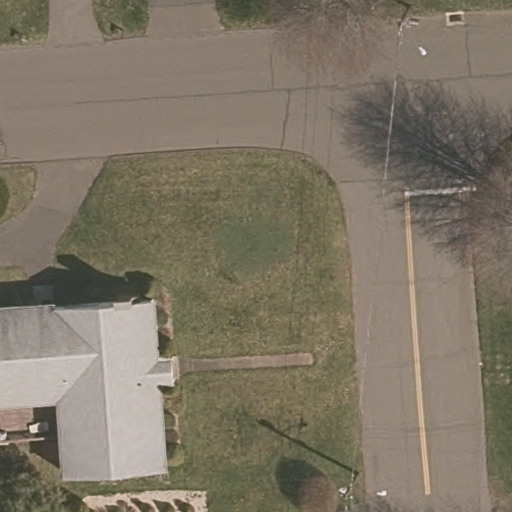DT: (386, 6, 440, 65), (323, 468, 392, 512)
